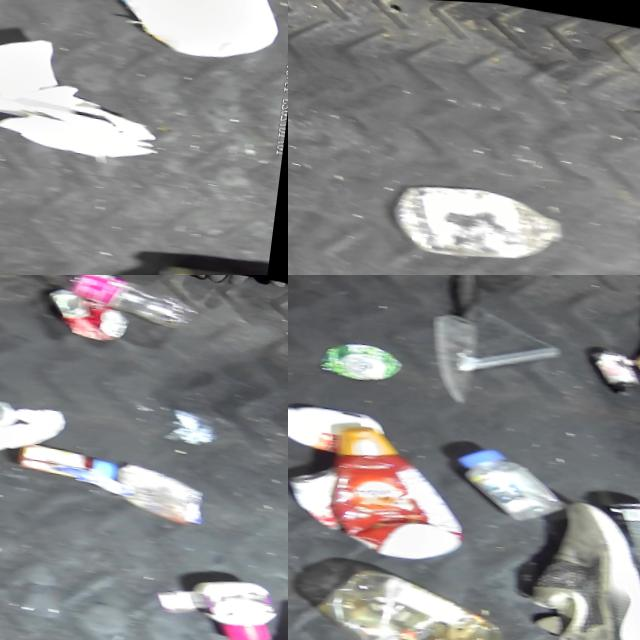can: (32, 279, 142, 345), (592, 487, 640, 597), (317, 333, 405, 385), (288, 455, 349, 528), (147, 252, 266, 275)
non_white_jug: (318, 417, 478, 566), (306, 556, 531, 640)
plastic_bottle: (387, 170, 573, 275), (9, 275, 197, 323)
